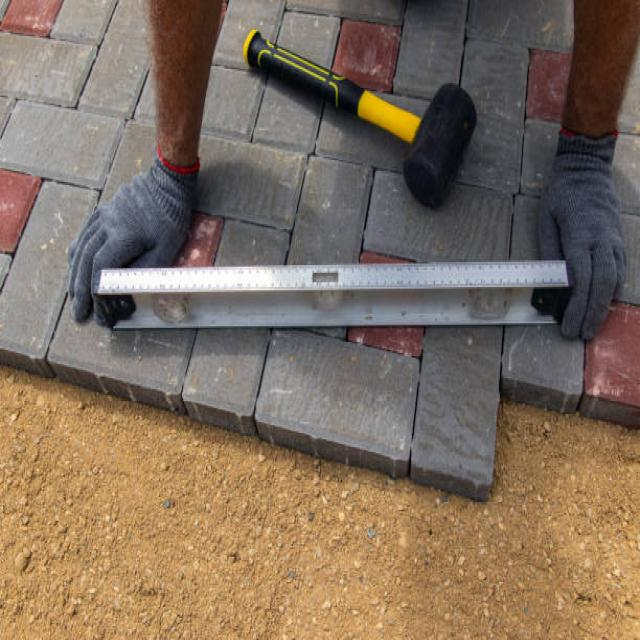gloves: (66, 146, 206, 329), (528, 134, 628, 344)
